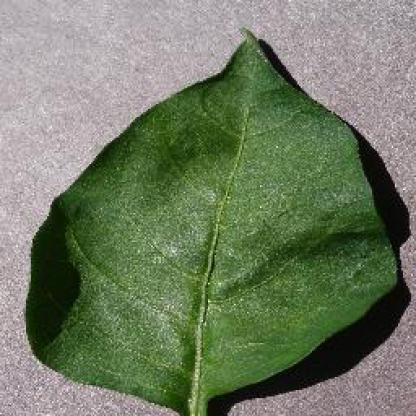good leaf: (63, 66, 341, 364)
